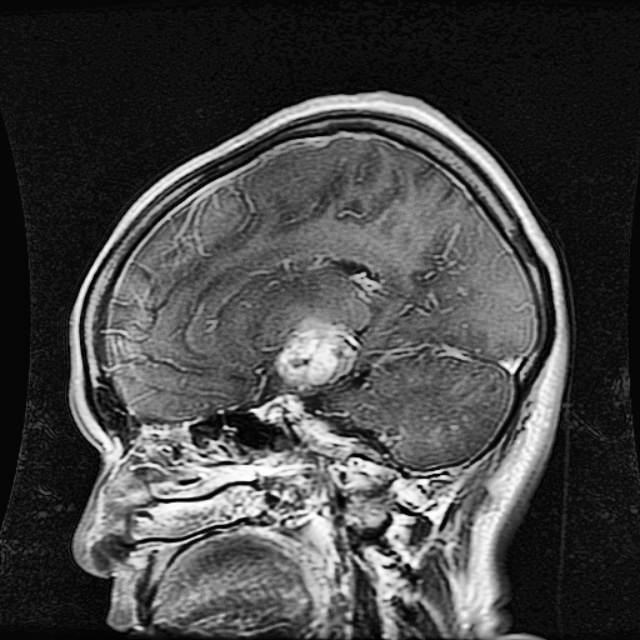Meningioma: (270, 317, 360, 394)
